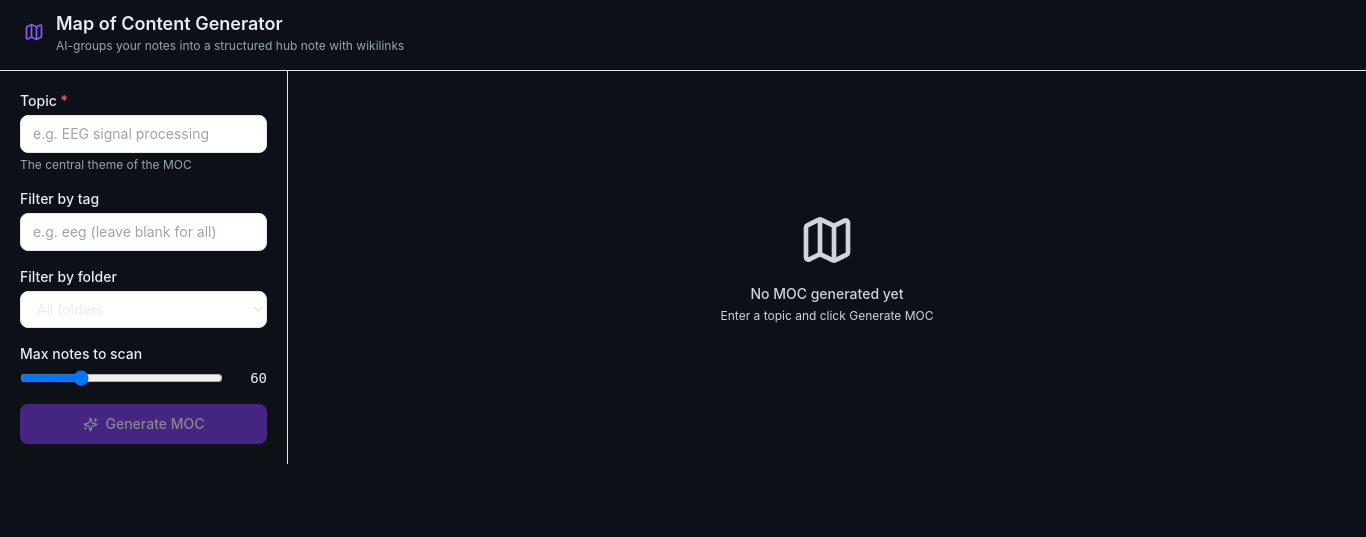
Test: MocPage — error state › shows error message on failed generation
The width and height of the screenshot is (1366, 537).
Step 1. Type "EEG" into the field with placeholder "e.g. EEG signal processing" → [144, 134], box [20,115,267,153]
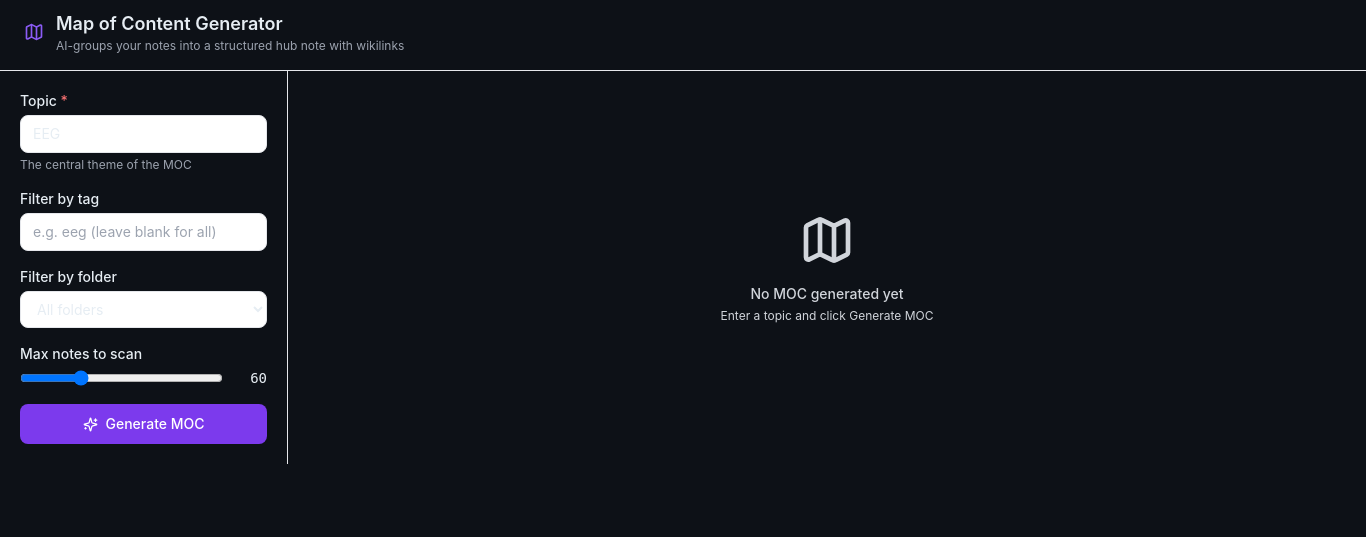
Step 2. Click the button "Generate MOC" → [144, 424], box [20,404,267,444]
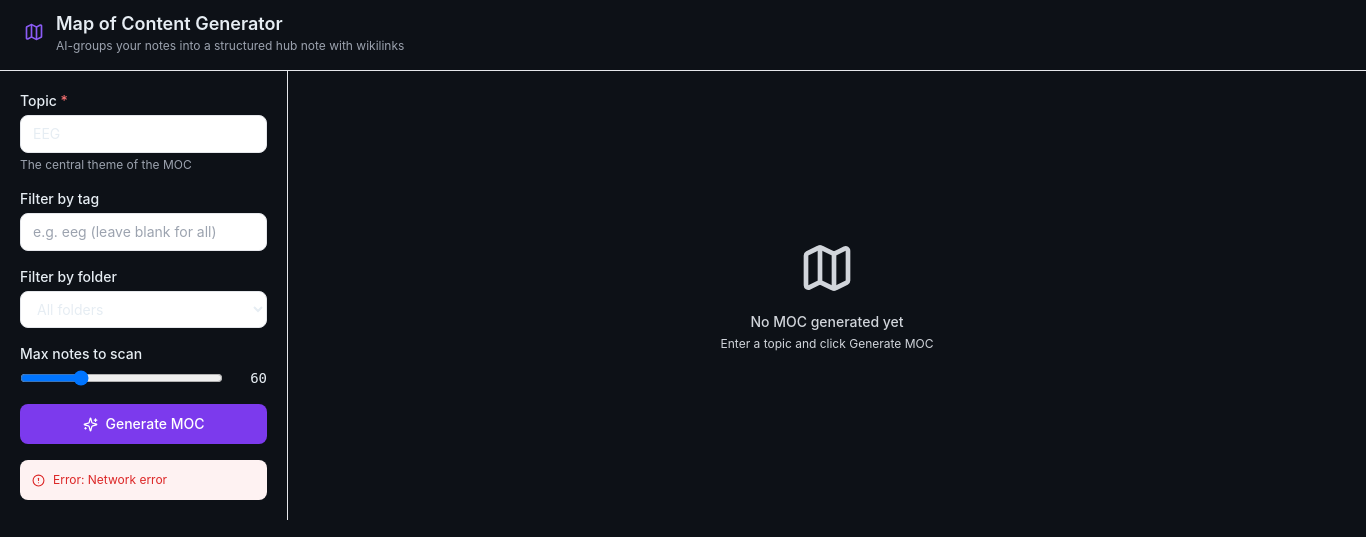
Expected: the text "Error: Network error" is shown, [53,472,167,488]
